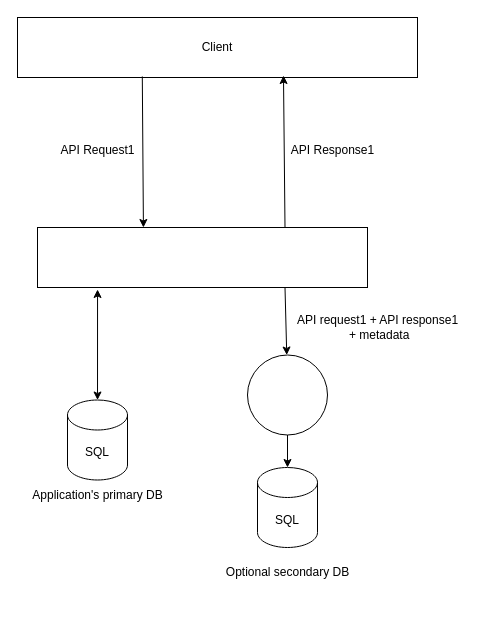
Some shapes in this 485 by 620 pixel diagram are drawn without their labels. The shapes that lost their labels are listed below. From the top down, each one's centre as x and y in pixels, then its label:
At (202,257): "Your Spring Application".
At (287,394): "Spring API logger".
